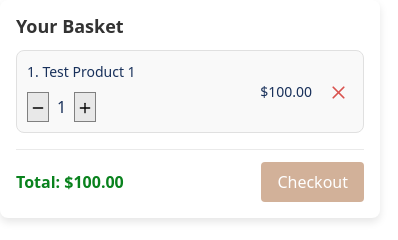
Scenario: MiniBasket Component - Unit Test cases › Check if product quntity gets changed or not
Expected: the icon with test id "add-item_1" is shown, left=77, top=100, right=93, bottom=116
Click the 2nd button named "add-item_1" at [85, 107], box left=74, top=92, right=96, bottom=122
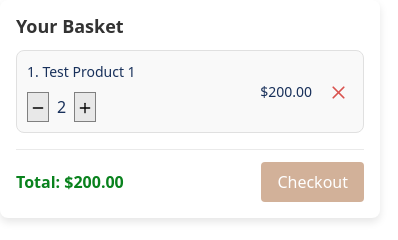
Expected: the text "2" is shown, left=57, top=95, right=66, bottom=119
